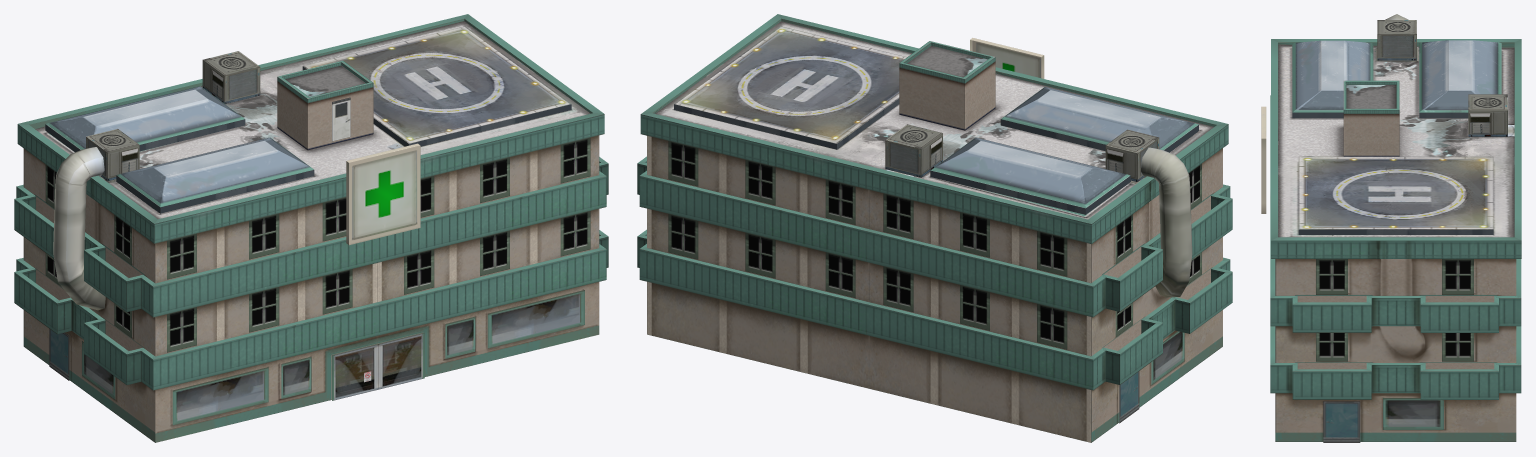
The model's file is clinic.glb.
The picture shows the model from 3 angles, left to right: view 1: azimuth 30°, elevation 25°; view 2: azimuth 150°, elevation 25°; view 3: azimuth 270°, elevation 25°; orthographic projection. The views are drawn at different scales.
Parts seen in each view (by area): view 1: clinic; view 2: clinic; view 3: clinic.
Boxes of the visible parts, x1=… form: clinic: x1=14, y1=14, x2=608, y2=442; clinic: x1=637, y1=14, x2=1232, y2=442; clinic: x1=1261, y1=14, x2=1521, y2=442.
Bounding box in the file's own units: 37.58 × 19.51 × 18.57.
Materials: 1 (1 with a texture image).
